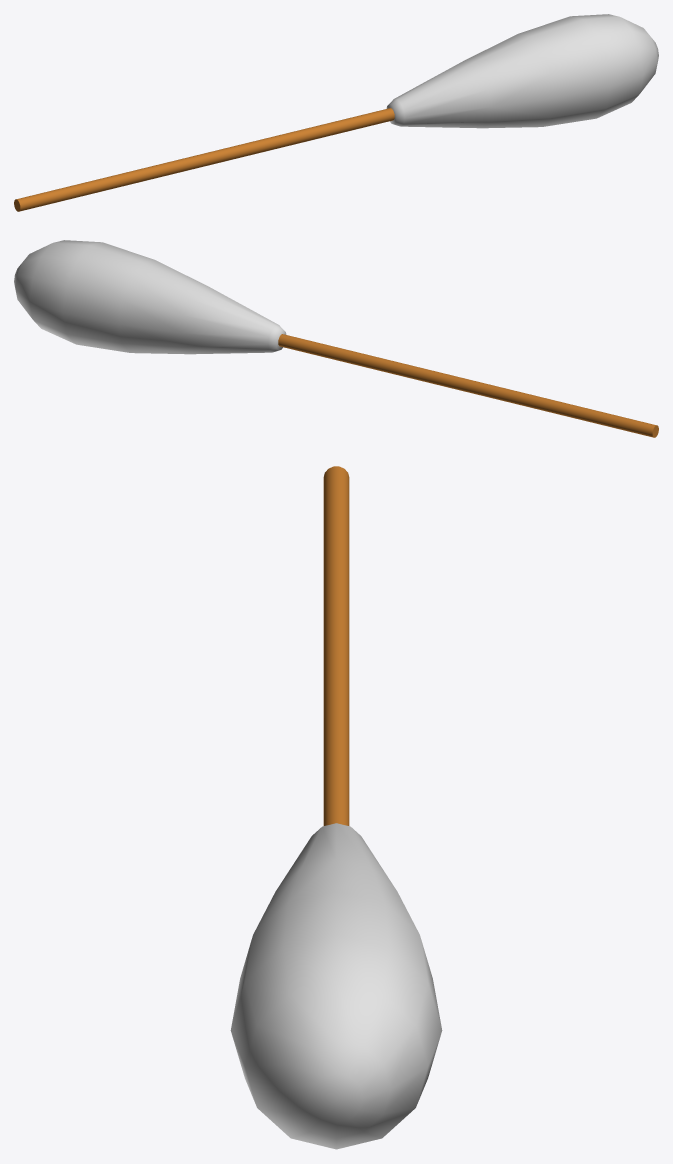
File: 大棉花棒.fbx
3 views of the same model, one above another, from view 1: azimuth 30°, elevation 25°; view 2: azimuth 150°, elevation 25°; view 3: azimuth 270°, elevation 25° (orthographic). The views are drawn at different scales.
Parts seen in each view (by area): view 1: Body; view 2: Body; view 3: Body.
Part boxes in pixels (x1,y1,x2,y2): Body: (14, 14, 658, 211); Body: (14, 240, 658, 437); Body: (230, 466, 442, 1149).
Size of the model in its own units: 13.16 by 1.89 by 1.89.
